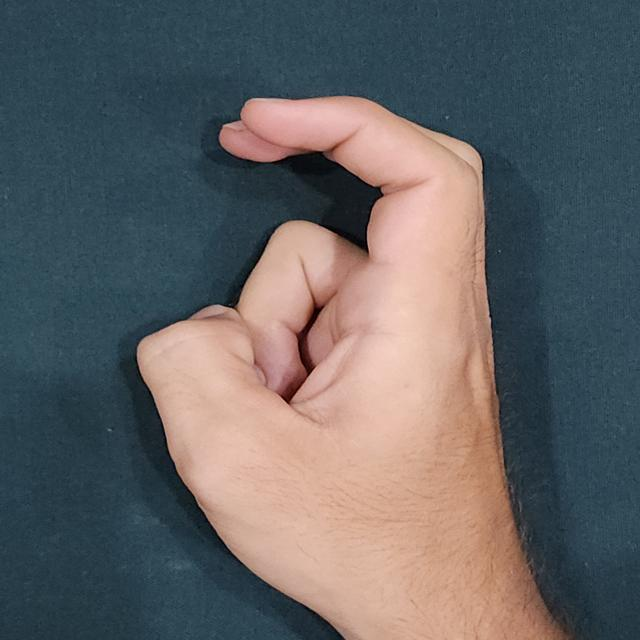ا: (128, 85, 579, 636)
